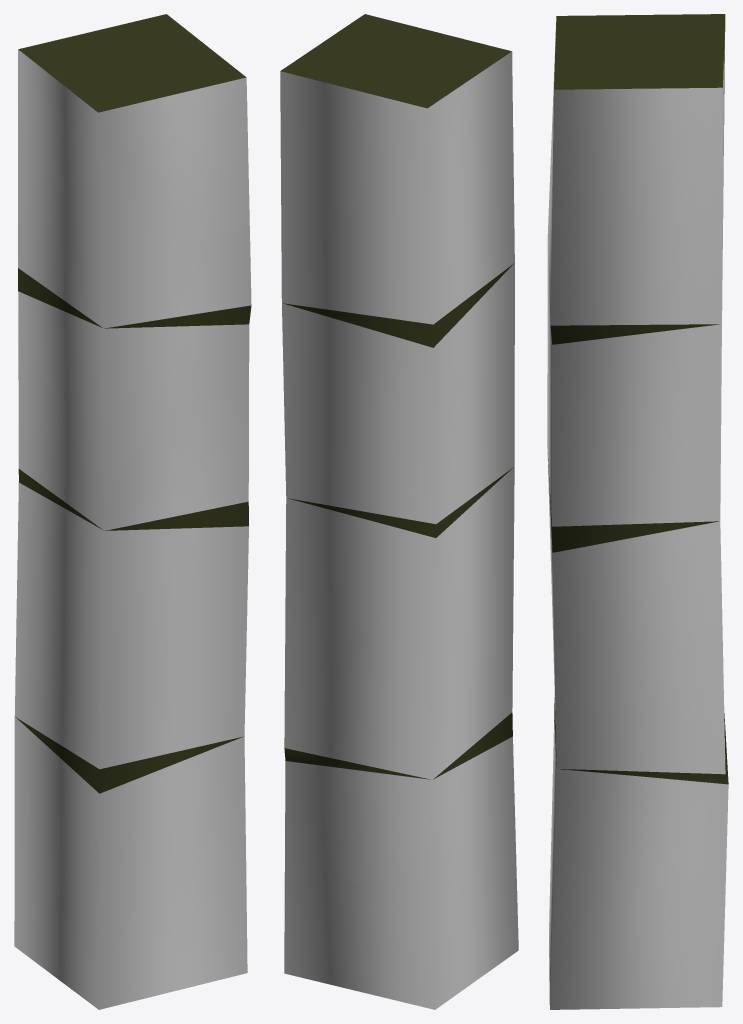
File: coconut_chairLeg.glb
3 views of the same model, side by side, from view 1: azimuth 30°, elevation 25°; view 2: azimuth 150°, elevation 25°; view 3: azimuth 270°, elevation 25° (orthographic). The views are drawn at different scales.
Parts seen in each view (by area): view 1: Cube; view 2: Cube; view 3: Cube.
Boxes of the visible parts, x1,y1,x2,y2 form: Cube: (14,14,251,1009); Cube: (280,14,518,1009); Cube: (547,14,728,1009).
Bounding box in the file's own units: 0.0565 × 0.3144 × 0.0559.
